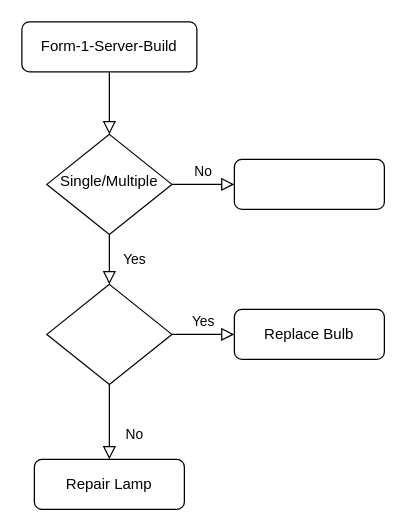
The diagram is 406 pixels wide and 531 high, and some of its shapes have lost their labels. Here are the shapes that lost their labels. From the top down, the centre of each, then its label:
the point at 308,183: Plug in lamp
the point at 109,333: Fill out the form
